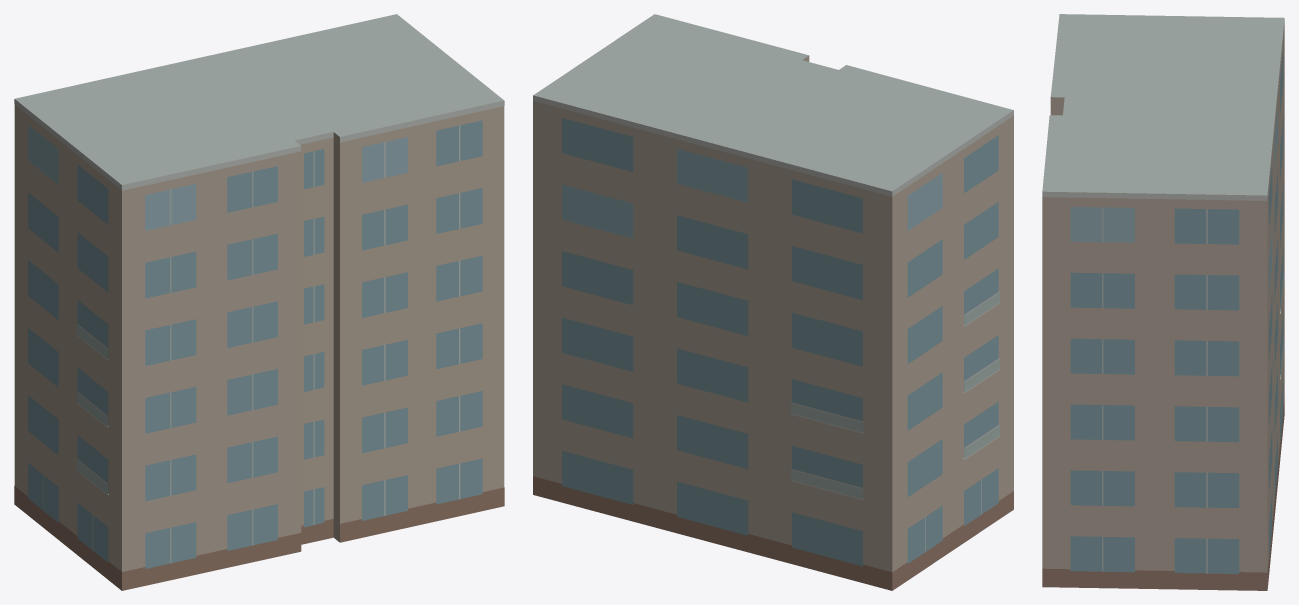
Rendered from survey-upis-32632650.glb.
3 views of the same model, side by side, from view 1: azimuth 30°, elevation 25°; view 2: azimuth 150°, elevation 25°; view 3: azimuth 270°, elevation 25° (orthographic). The views are drawn at different scales.
Parts seen in each view (by area): view 1: survey-upis-32632650.tmp; view 2: survey-upis-32632650.tmp; view 3: survey-upis-32632650.tmp.
Boxes of the visible parts, x1=… form: survey-upis-32632650.tmp: x1=14, y1=14, x2=504, y2=590; survey-upis-32632650.tmp: x1=533, y1=14, x2=1013, y2=590; survey-upis-32632650.tmp: x1=1042, y1=14, x2=1284, y2=590.
Size of the model in its own units: 17.78 by 18.05 by 10.04.
